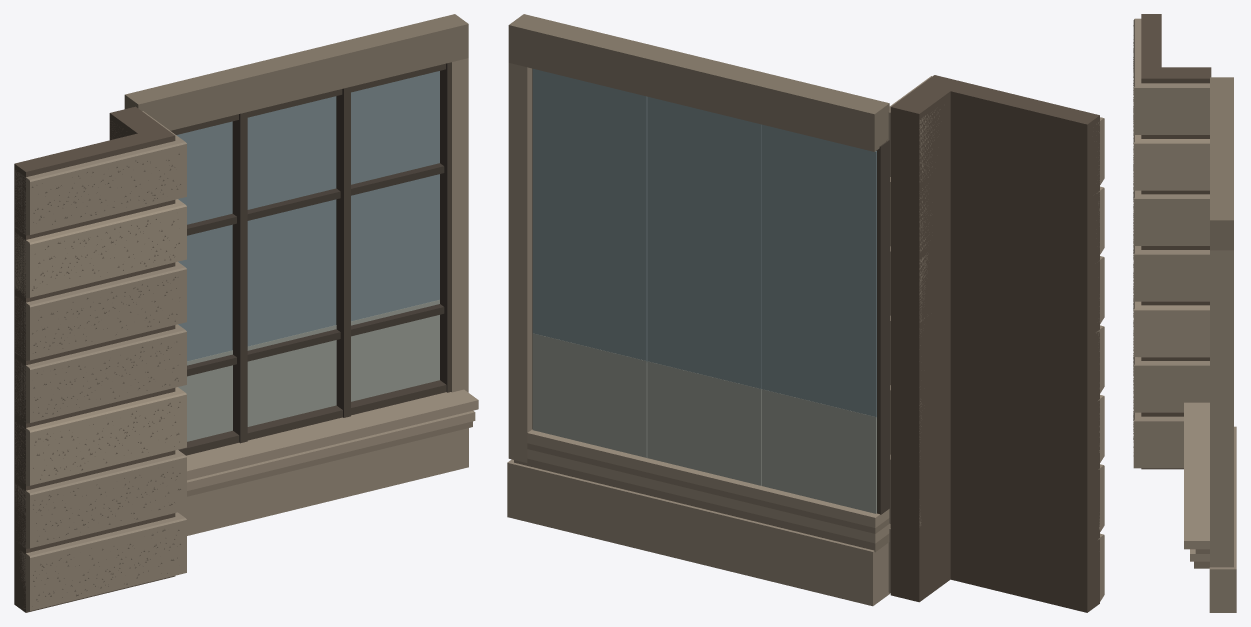
File: huangpu-zhonghe-cun-no14-channelled-window-pier-web.glb
3 renders of one model, left to right at view 1: azimuth 30°, elevation 25°; view 2: azimuth 150°, elevation 25°; view 3: azimuth 270°, elevation 25°, orthographic. The views are drawn at different scales.
Parts seen in each view (by area): view 1: 长乐路272弄14号住宅转角横槽墙墩与木格窗; view 2: 长乐路272弄14号住宅转角横槽墙墩与木格窗; view 3: 长乐路272弄14号住宅转角横槽墙墩与木格窗.
Part boxes in pixels (<box>): 长乐路272弄14号住宅转角横槽墙墩与木格窗: <box>14,14,478,612</box>; 长乐路272弄14号住宅转角横槽墙墩与木格窗: <box>507,14,1104,612</box>; 长乐路272弄14号住宅转角横槽墙墩与木格窗: <box>1133,14,1236,612</box>.
Bounding box in the file's own units: 3.12 × 2.74 × 0.653.
